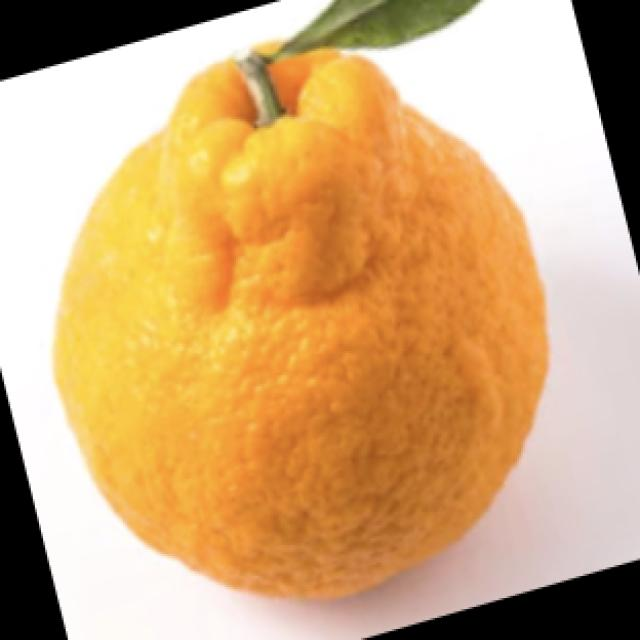matang: (59, 63, 551, 601)
